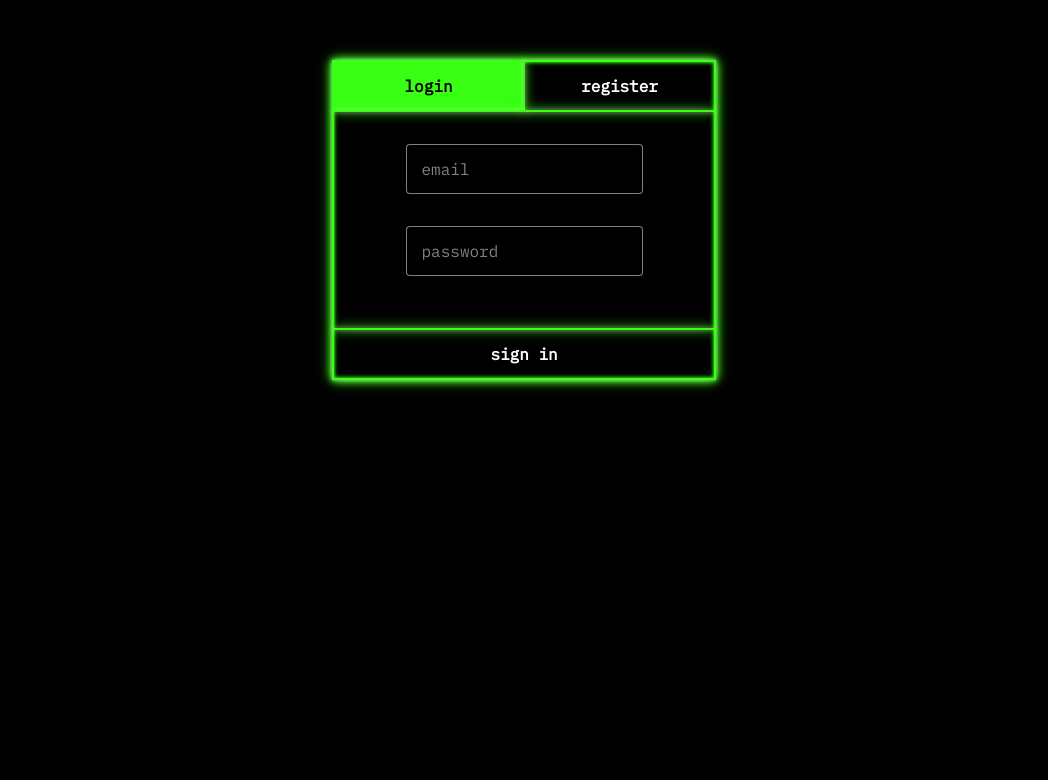
Test case: welcome screen › registers new user
Click the button with id "welcomeRegister" at (620, 86), box top-left (525, 62), bottom-right (714, 110)
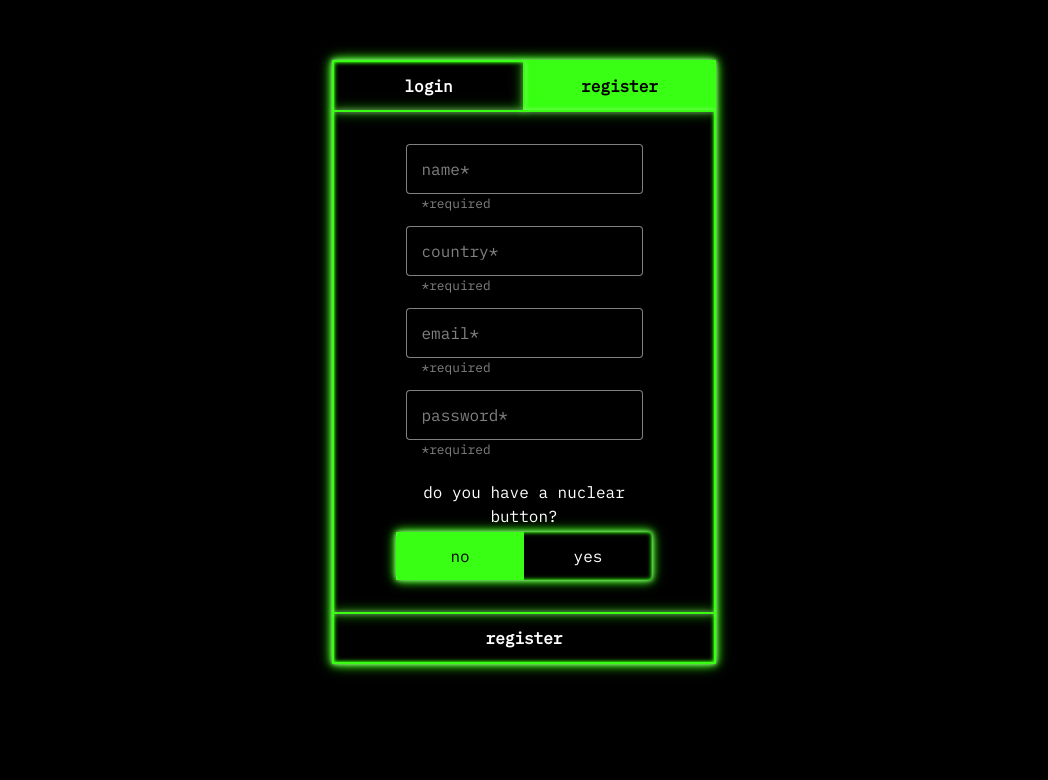
Type "test name" into the field with id "registerName" at (525, 169), box top-left (406, 144), bottom-right (643, 194)
Type "testCountry" into the field with id "registerCountry" at (525, 251), box top-left (406, 226), bottom-right (643, 276)
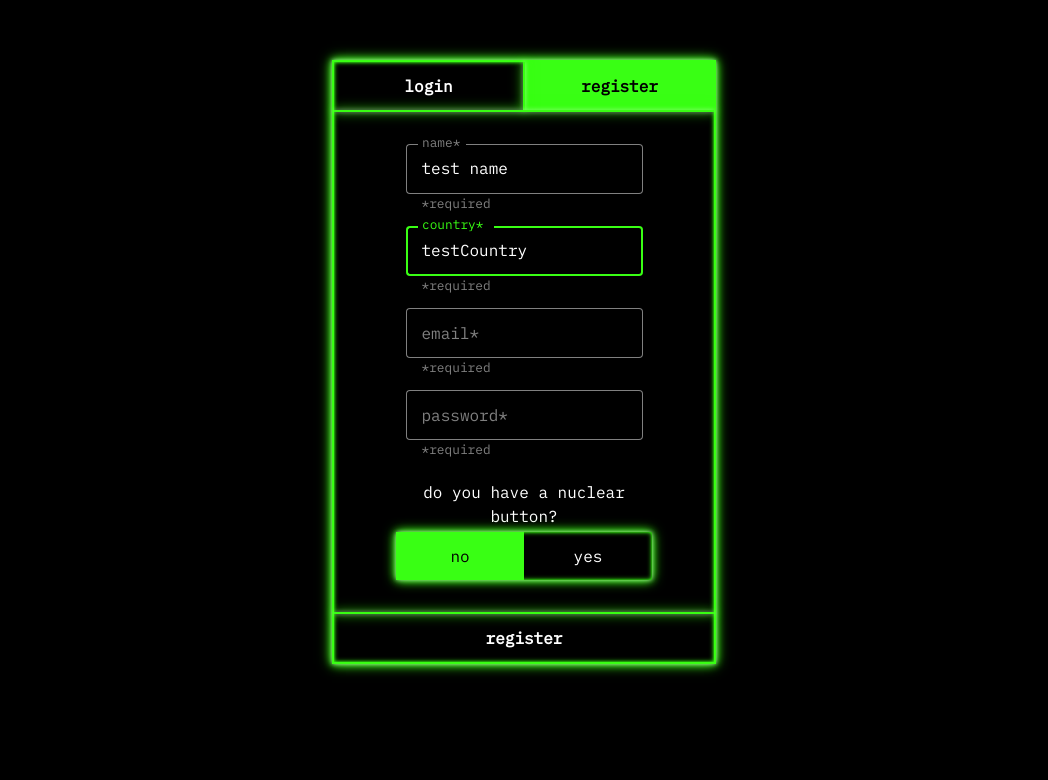
Type "test@mail.com" into the field with id "registerEmail" at (525, 333), box top-left (406, 308), bottom-right (643, 358)
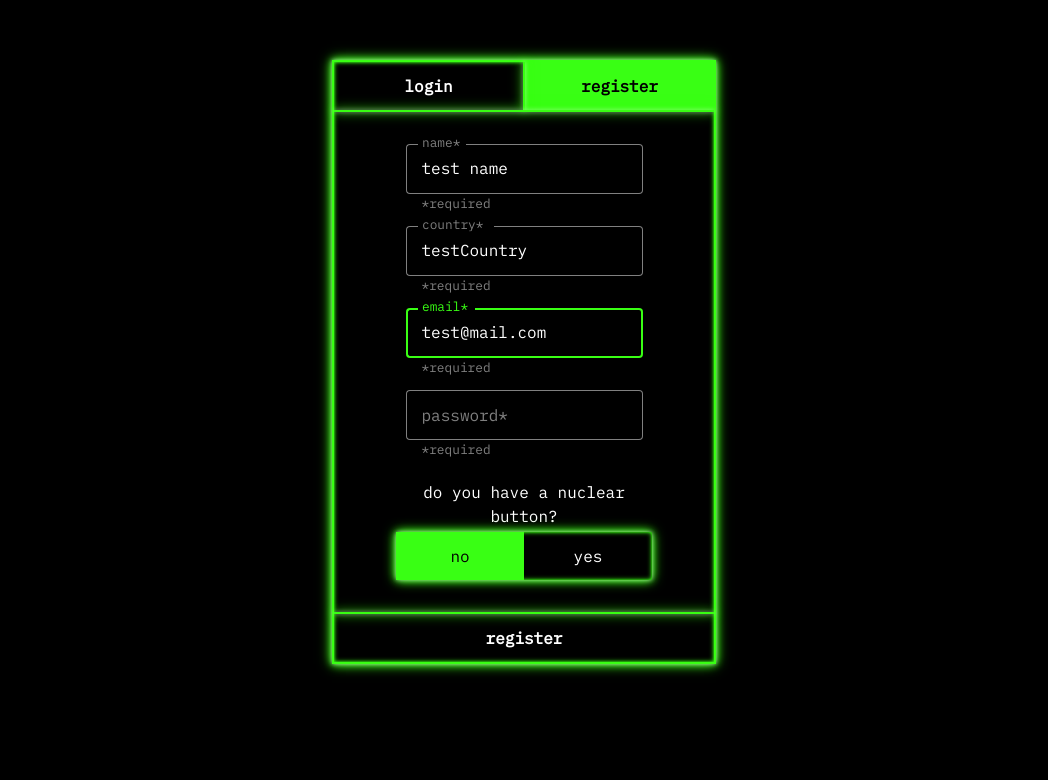
Type "test123!" into the password field with id "registerPassword" at (525, 415), box top-left (406, 390), bottom-right (643, 440)
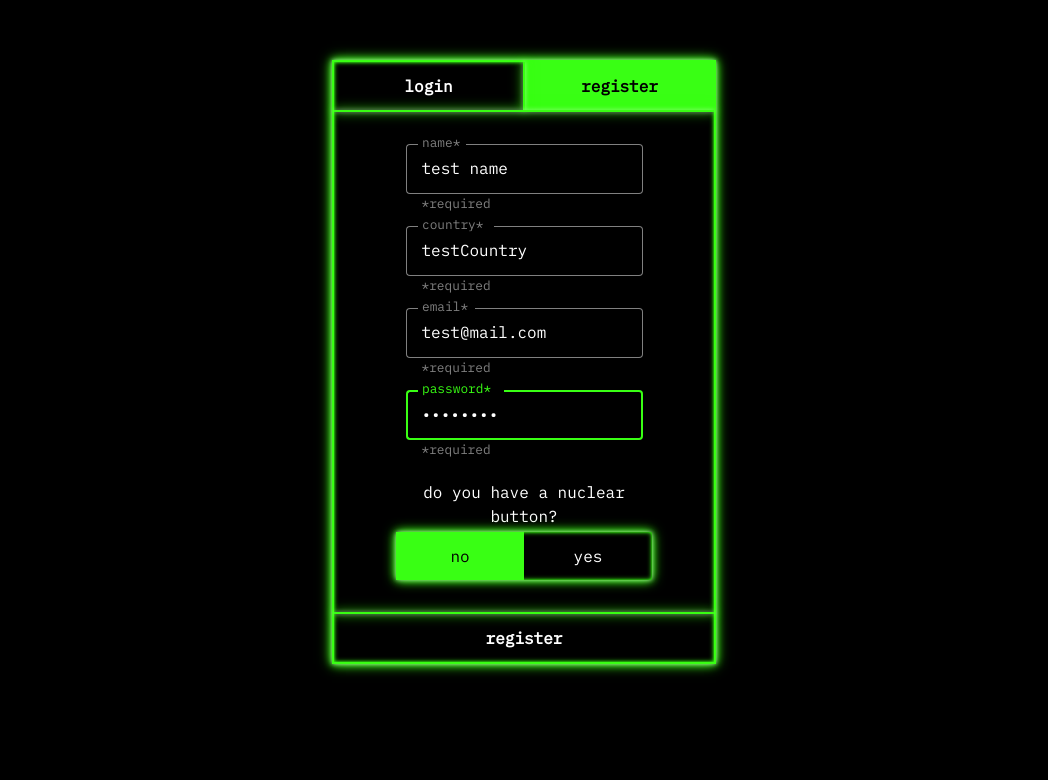
Click the radio button labelled "yes" at (589, 556), box top-left (574, 546), bottom-right (603, 566)
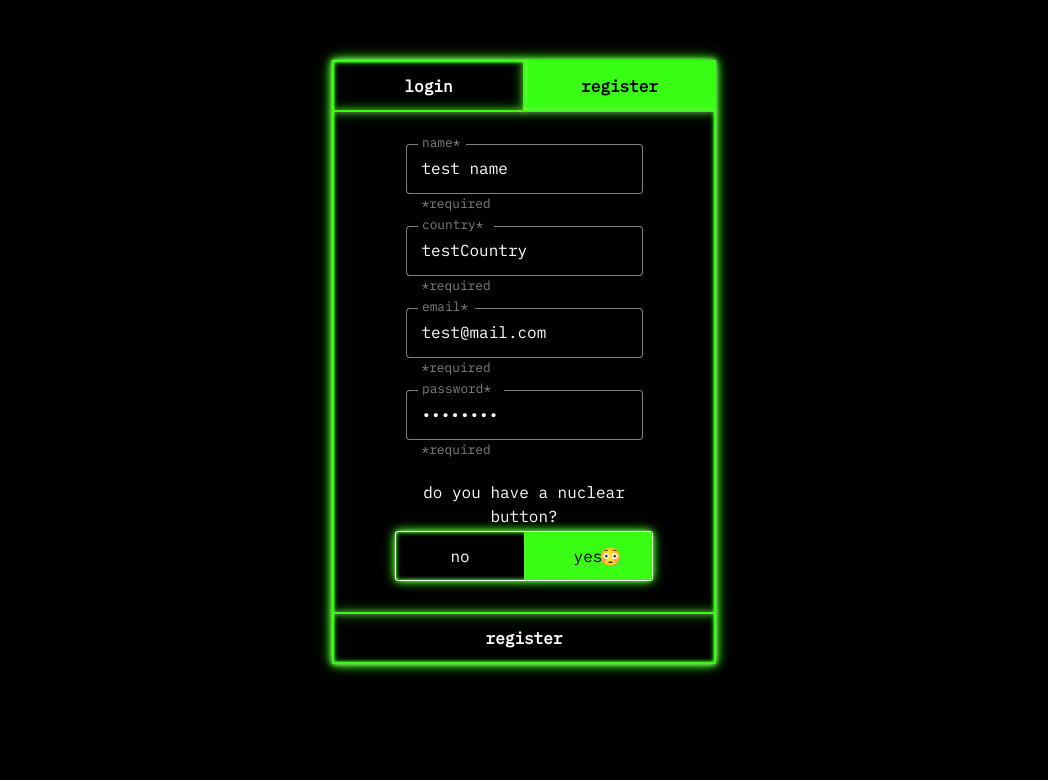
Click the button with id "registerConfirm" at (524, 638), box top-left (334, 614), bottom-right (714, 662)
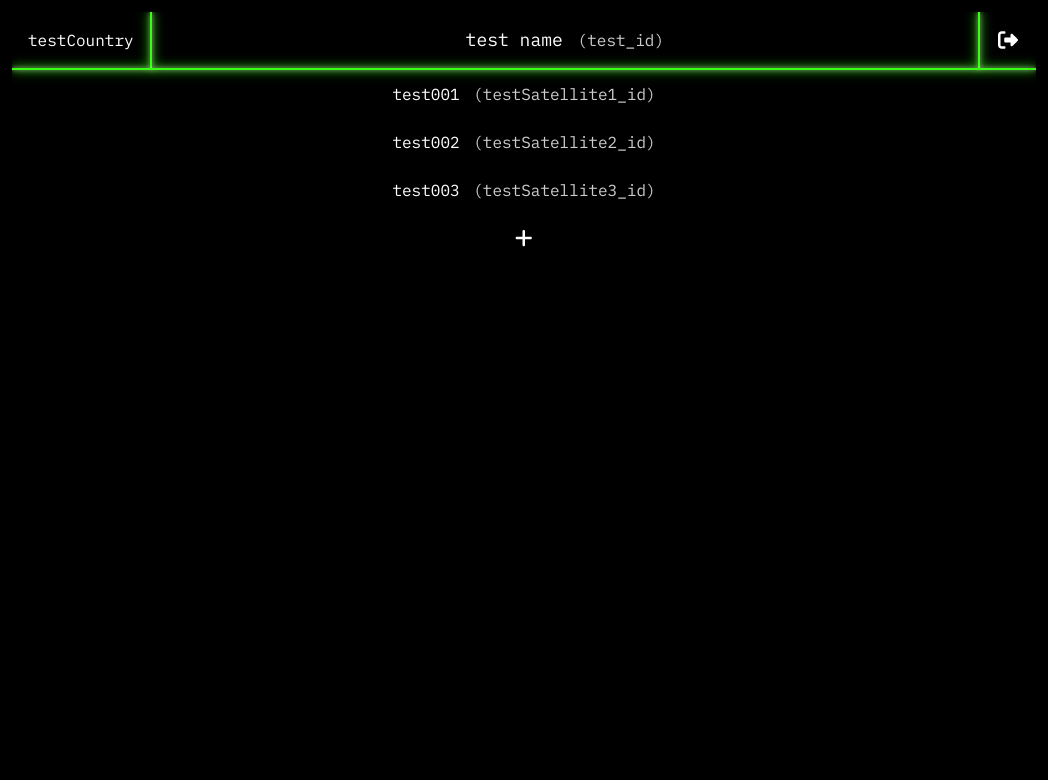
Result: the element that starts with "test001" is shown at top-left (12, 70), bottom-right (1036, 262)
